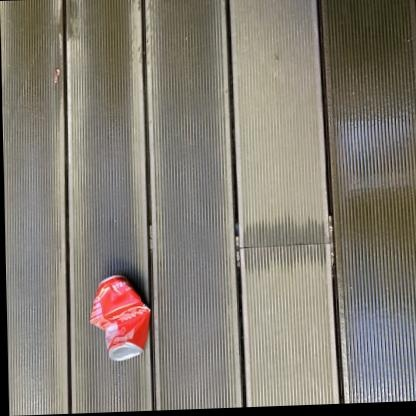trash: (89, 275, 149, 360)
